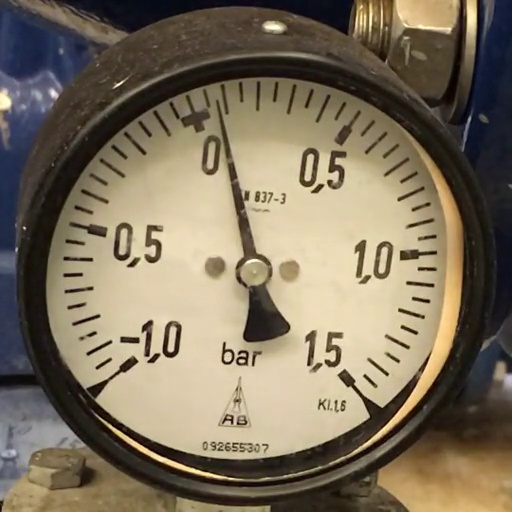base: (236, 254, 272, 288)
circle_plate: (46, 77, 466, 461)
maximum: (337, 368, 356, 388)
minimum: (119, 356, 138, 374)
number: (119, 320, 182, 363), (114, 222, 164, 268), (298, 148, 348, 194), (354, 239, 394, 284), (304, 330, 344, 373), (201, 134, 221, 174)
tip: (214, 98, 221, 104)
